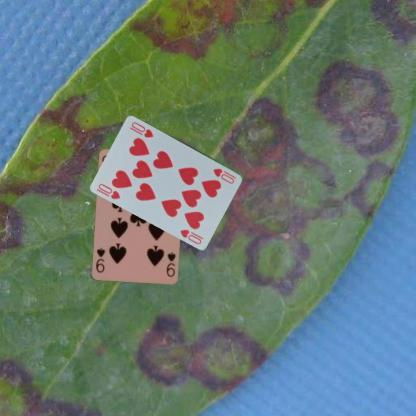10h: (211, 165, 237, 185), (96, 181, 122, 200)
9s: (163, 249, 177, 278)
